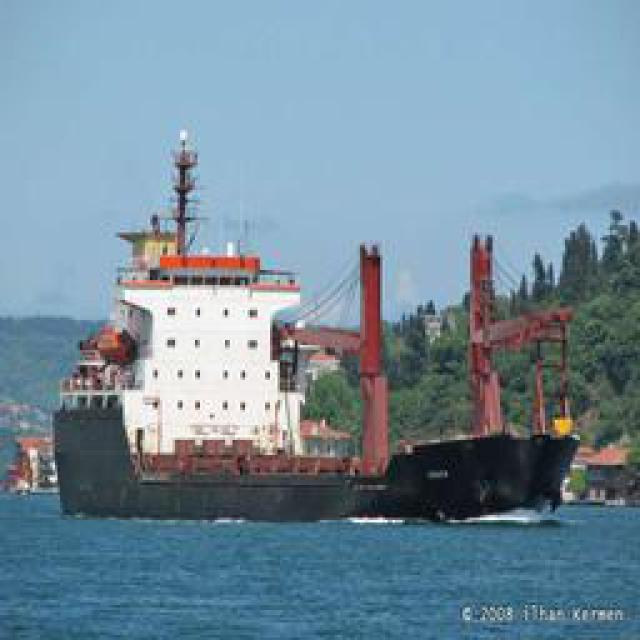Ship: (50, 119, 423, 519)
